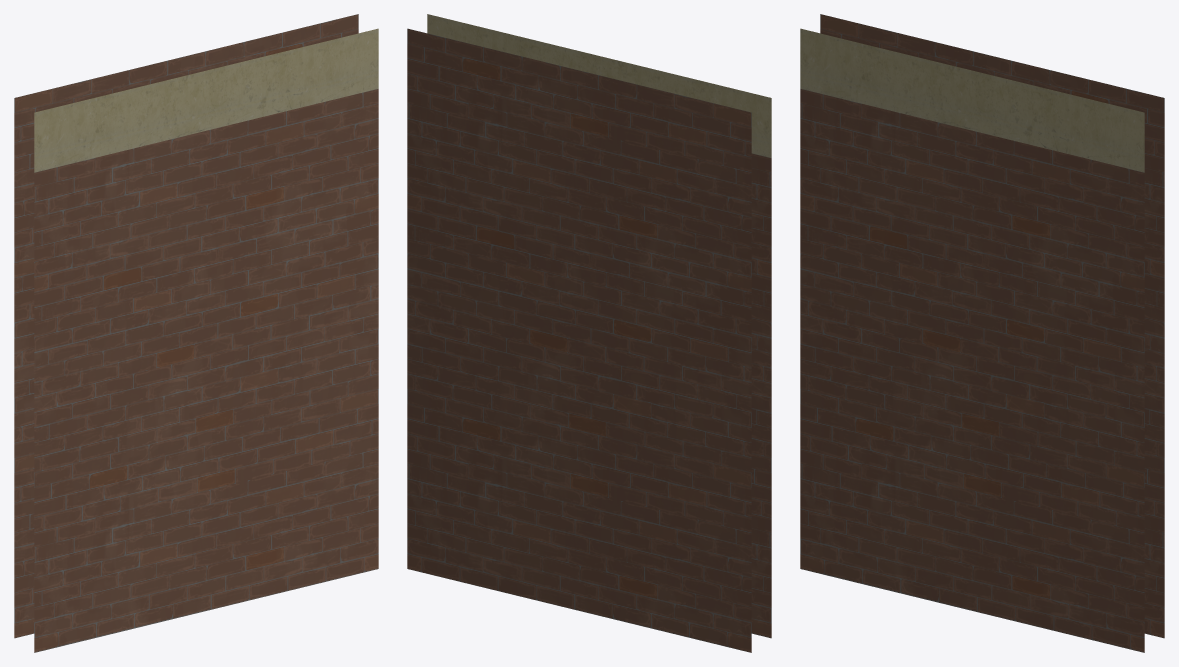
The model's file is Brick_TopTrim.gltf.
3 views of the same model, side by side, from view 1: azimuth 30°, elevation 25°; view 2: azimuth 150°, elevation 25°; view 3: azimuth 330°, elevation 25° (orthographic).
Parts seen in each view (by area): view 1: Brick_TopTrim; view 2: Brick_TopTrim; view 3: Brick_TopTrim.
Boxes of the visible parts, x1,y1,x2,y2 form: Brick_TopTrim: [14, 14, 378, 652]; Brick_TopTrim: [407, 14, 771, 652]; Brick_TopTrim: [800, 14, 1164, 652].
Size of the model in its own units: 2 by 3 by 0.2.
Materials: 3 (3 with a texture image).
